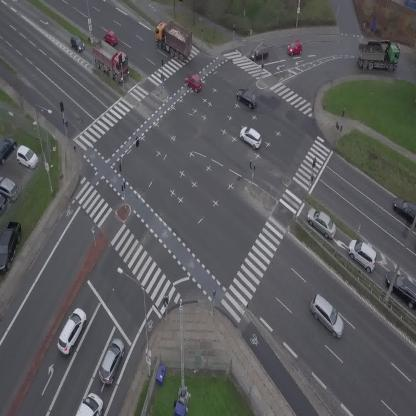car: (304, 292, 352, 340), (52, 305, 91, 356), (95, 336, 129, 387), (342, 235, 384, 274), (302, 204, 341, 242), (236, 124, 265, 150), (234, 85, 261, 110), (65, 33, 87, 55), (183, 72, 205, 93), (102, 28, 122, 47), (249, 45, 269, 60), (287, 40, 302, 55)
lorry: (83, 34, 137, 85), (146, 16, 200, 64), (358, 39, 400, 71), (75, 393, 103, 416)
